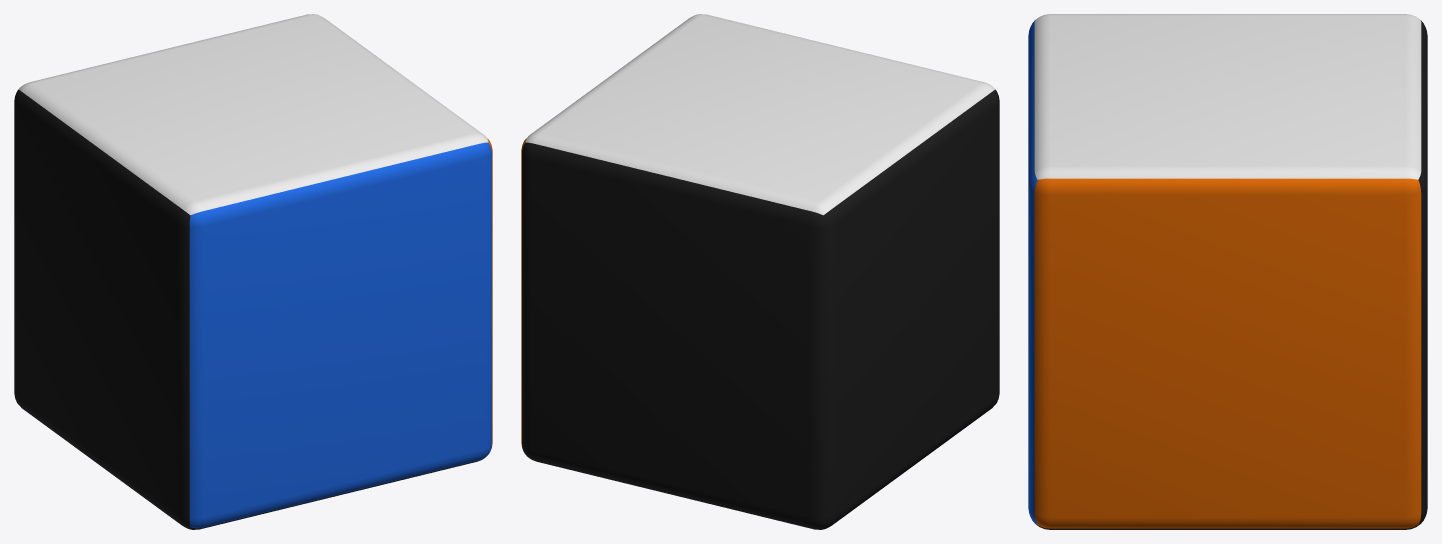
File: wob_corner.glb
The picture shows the model from 3 angles, left to right: view 1: azimuth 30°, elevation 25°; view 2: azimuth 150°, elevation 25°; view 3: azimuth 270°, elevation 25°; orthographic projection. The views are drawn at different scales.
Visible parts, largest first — view 1: Cube.004; view 2: Cube.004; view 3: Cube.004.
Part boxes in pixels (box(x1,y1,x2,y2)): Cube.004: box(14, 14, 492, 529); Cube.004: box(521, 14, 999, 529); Cube.004: box(1028, 14, 1427, 529).
Size of the model in its own units: 2 by 2 by 2.
